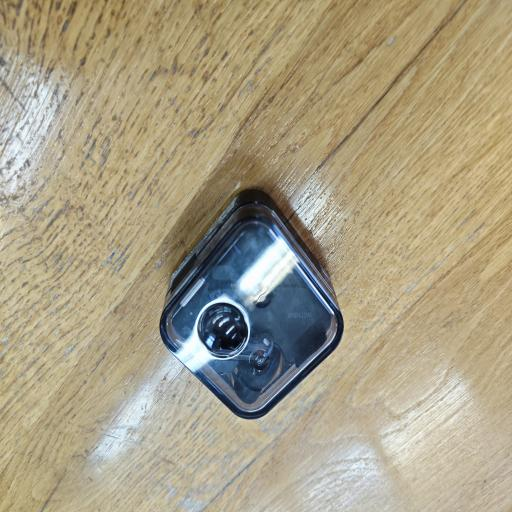Headphones: (154, 178, 348, 424)
